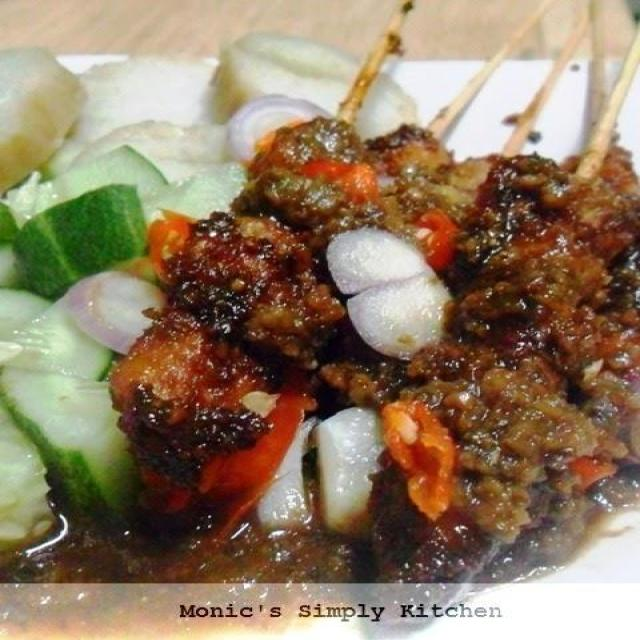Sate: (117, 3, 640, 580)
